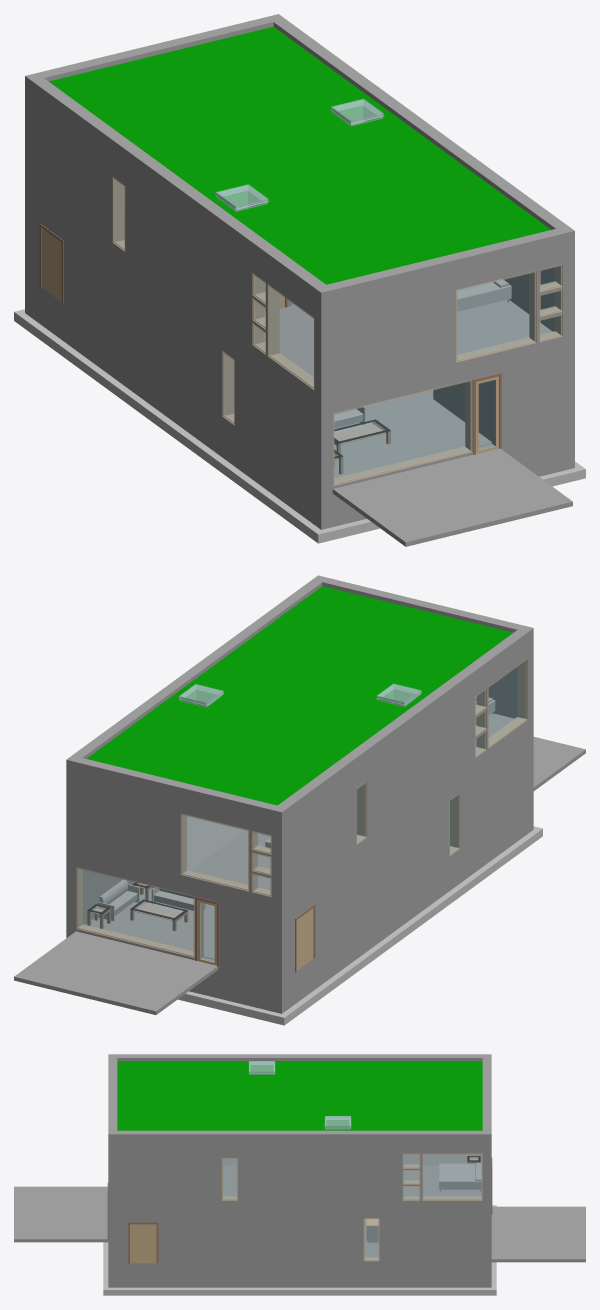
The picture shows the model from 3 angles, top to bottom: view 1: azimuth 30°, elevation 25°; view 2: azimuth 150°, elevation 25°; view 3: azimuth 270°, elevation 25°; orthographic projection. The views are drawn at different scales.
Parts seen in each view (by area): view 1: 3ThA22djr8AQQ9eQMA5s7I, 2O2Fr$t4X7Zf8NOew3FNhv, 2O2Fr$t4X7Zf8NOew3FLPP, 2O2Fr$t4X7Zf8NOew3FLOH, 1CZILmCaHETO8tf3SgGEXu, 2O2Fr$t4X7Zf8NOew3FNr2, 2O2Fr$t4X7Zf8NOew3FKE5, 0jf0rYHfX3RAB3bSIRjmr1, 2OBrcmyk58NupXoVOHUtxr, 0jf0rYHfX3RAB3bSIRjmoa, 0jf0rYHfX3RAB3bSIRjmpw, 0kF45Qs8L9PAM9kmb1lT5t (+19 smaller); view 2: 3ThA22djr8AQQ9eQMA5s7I, 2O2Fr$t4X7Zf8NOew3FNhv, 2O2Fr$t4X7Zf8NOew3FLPP, 2O2Fr$t4X7Zf8NOew3FLQD, 2O2Fr$t4X7Zf8NOew3FNtn, 1CZILmCaHETO8tf3SgGEWh, 2O2Fr$t4X7Zf8NOew3FKE5, 0jf0rYHfX3RAB3bSIRjmr1, 0jf0rYHfX3RAB3bSIRjmmy, 0kF45Qs8L9PAM9kmb1lT5t, 0jf0rYHfX3RAB3bSIRjmpw, 2OBrcmyk58NupXoVOHUtgP (+20 smaller); view 3: 3ThA22djr8AQQ9eQMA5s7I, 2O2Fr$t4X7Zf8NOew3FNqI, 2O2Fr$t4X7Zf8NOew3FLR9, 2O2Fr$t4X7Zf8NOew3FK9N, 0jf0rYHfX3RAB3bSIRjmpw, 1CZILmCaHETO8tf3SgGEWh, 1CZILmCaHETO8tf3SgGEXu, 0kF45Qs8L9PAM9kmb1lT5d, 0jf0rYHfX3RAB3bSIRjmr1, 1hOSvn6df7F8_7GcBWlRGQ, 2OBrcmyk58NupXoVOHUtDX, 2OBrcmyk58NupXoVOHUtI8 (+8 smaller).
Boxes of the visible parts, x1=… form: 3ThA22djr8AQQ9eQMA5s7I: x1=49, y1=26, x2=550, y2=284; 2O2Fr$t4X7Zf8NOew3FNhv: x1=32, y1=187, x2=314, y2=486; 2O2Fr$t4X7Zf8NOew3FLPP: x1=25, y1=94, x2=321, y2=398; 2O2Fr$t4X7Zf8NOew3FLOH: x1=321, y1=249, x2=574, y2=398; 1CZILmCaHETO8tf3SgGEXu: x1=332, y1=448, x2=572, y2=546; 2O2Fr$t4X7Zf8NOew3FNr2: x1=314, y1=340, x2=562, y2=491; 2O2Fr$t4X7Zf8NOew3FKE5: x1=32, y1=281, x2=314, y2=524; 0jf0rYHfX3RAB3bSIRjmr1: x1=32, y1=78, x2=325, y2=305; 2OBrcmyk58NupXoVOHUtxr: x1=334, y1=389, x2=491, y2=478; 0jf0rYHfX3RAB3bSIRjmoa: x1=314, y1=229, x2=562, y2=310; 0jf0rYHfX3RAB3bSIRjmpw: x1=273, y1=19, x2=574, y2=251; 0kF45Qs8L9PAM9kmb1lT5t: x1=14, y1=309, x2=309, y2=532; 3ThA22djr8AQQ9eQMA5s7I: x1=86, y1=586, x2=513, y2=805; 2O2Fr$t4X7Zf8NOew3FNhv: x1=287, y1=722, x2=527, y2=977; 2O2Fr$t4X7Zf8NOew3FLPP: x1=282, y1=644, x2=533, y2=901; 2O2Fr$t4X7Zf8NOew3FLQD: x1=66, y1=775, x2=281, y2=902; 2O2Fr$t4X7Zf8NOew3FNtn: x1=66, y1=850, x2=287, y2=981; 1CZILmCaHETO8tf3SgGEWh: x1=14, y1=931, x2=218, y2=1014; 2O2Fr$t4X7Zf8NOew3FKE5: x1=287, y1=802, x2=527, y2=1009; 0jf0rYHfX3RAB3bSIRjmr1: x1=278, y1=630, x2=527, y2=823; 0jf0rYHfX3RAB3bSIRjmmy: x1=66, y1=755, x2=287, y2=827; 0kF45Qs8L9PAM9kmb1lT5t: x1=262, y1=836, x2=530, y2=1025; 0jf0rYHfX3RAB3bSIRjmpw: x1=72, y1=575, x2=327, y2=758; 2OBrcmyk58NupXoVOHUtgP: x1=85, y1=888, x2=214, y2=959; 3ThA22djr8AQQ9eQMA5s7I: x1=117, y1=1061, x2=482, y2=1130; 2O2Fr$t4X7Zf8NOew3FNqI: x1=108, y1=1202, x2=482, y2=1263; 2O2Fr$t4X7Zf8NOew3FLR9: x1=108, y1=1146, x2=491, y2=1202; 2O2Fr$t4X7Zf8NOew3FK9N: x1=108, y1=1263, x2=482, y2=1287; 0jf0rYHfX3RAB3bSIRjmpw: x1=108, y1=1130, x2=482, y2=1146; 1CZILmCaHETO8tf3SgGEWh: x1=491, y1=1206, x2=585, y2=1262; 1CZILmCaHETO8tf3SgGEXu: x1=14, y1=1186, x2=108, y2=1242; 0kF45Qs8L9PAM9kmb1lT5d: x1=103, y1=1281, x2=496, y2=1295; 0jf0rYHfX3RAB3bSIRjmr1: x1=117, y1=1054, x2=482, y2=1060; 1hOSvn6df7F8_7GcBWlRGQ: x1=128, y1=1222, x2=158, y2=1263; 2OBrcmyk58NupXoVOHUtDX: x1=403, y1=1165, x2=481, y2=1196; 2OBrcmyk58NupXoVOHUtI8: x1=439, y1=1163, x2=481, y2=1191.
Bounding box in the file's own units: 9.28 × 8.18 × 26.57.
